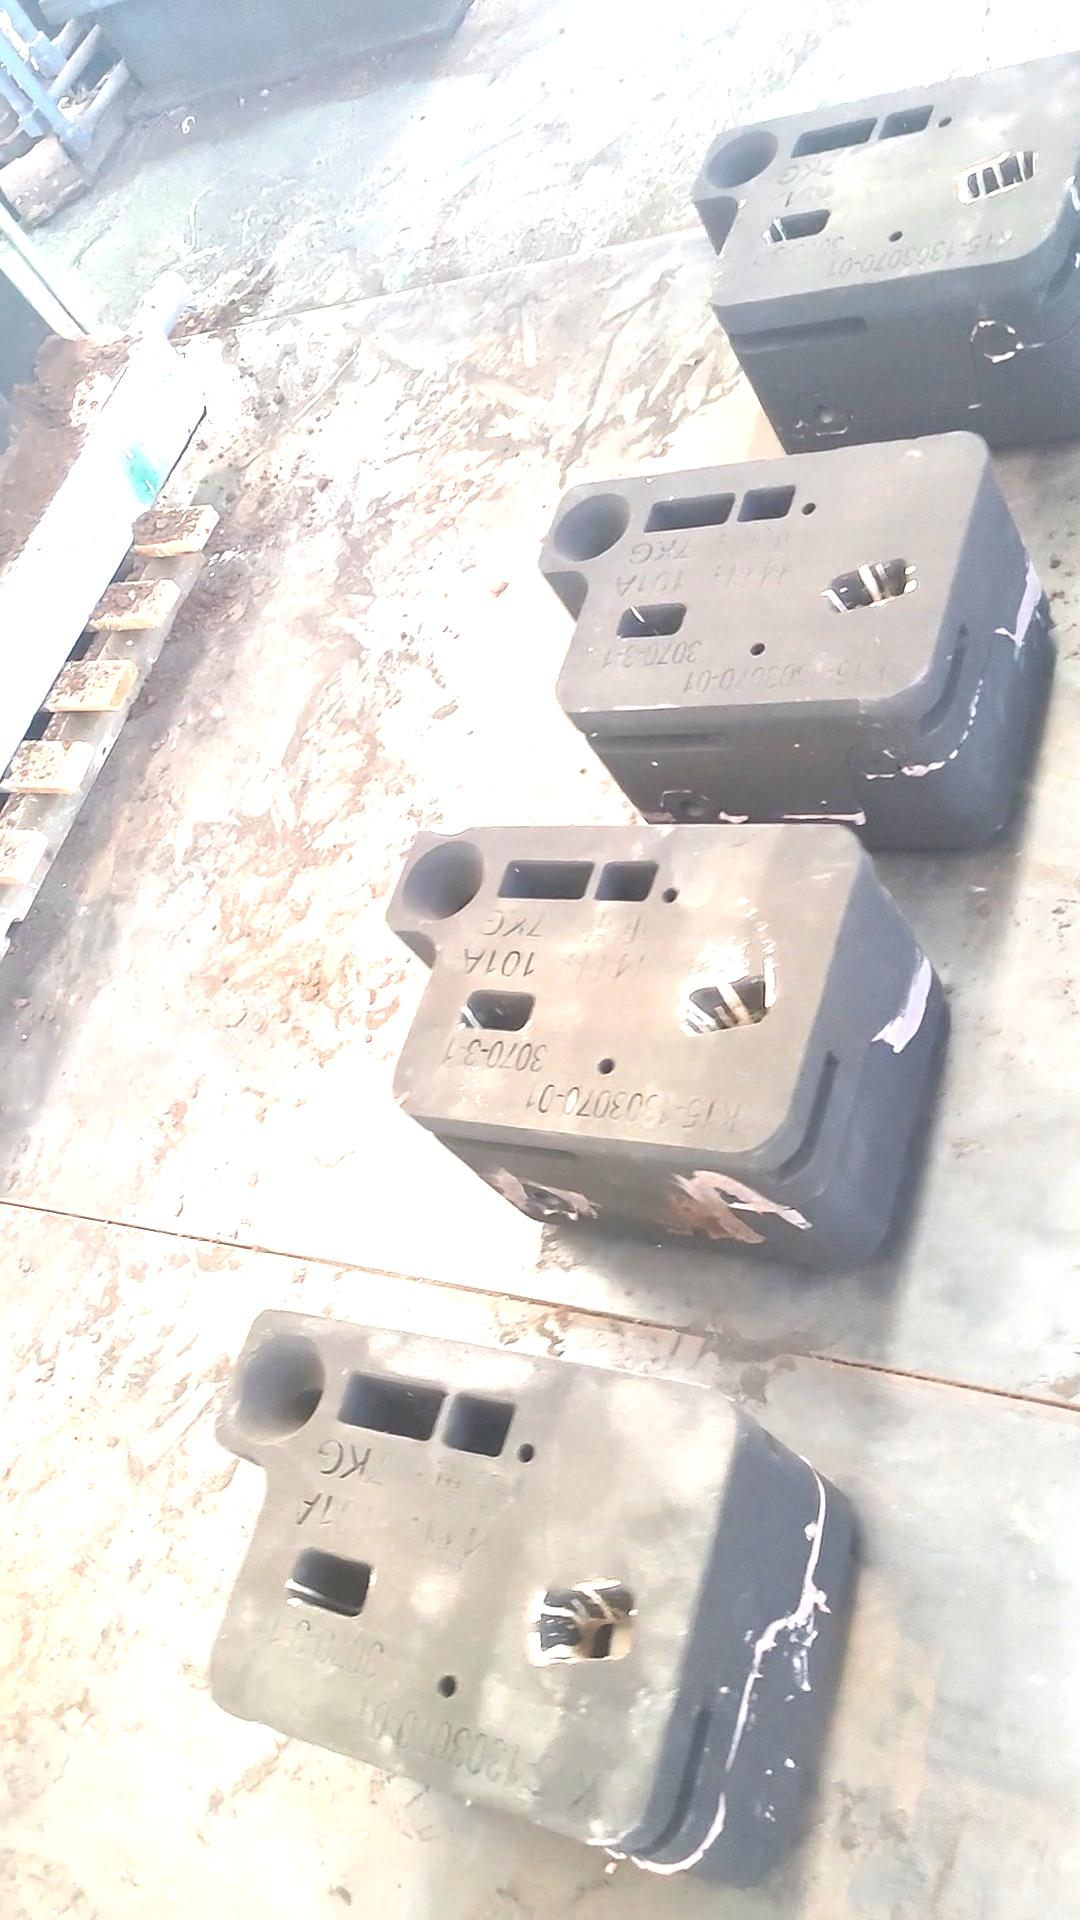pouring hole: (224, 1333, 324, 1444), (404, 841, 484, 920), (555, 492, 632, 563), (703, 132, 778, 189)
